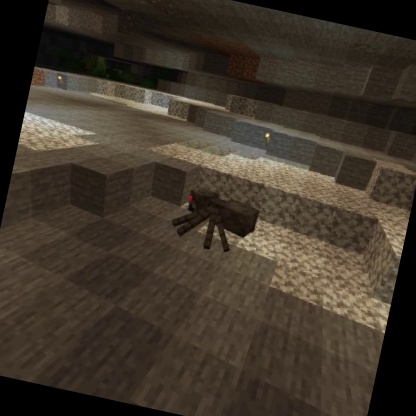spider: (163, 179, 265, 262)
